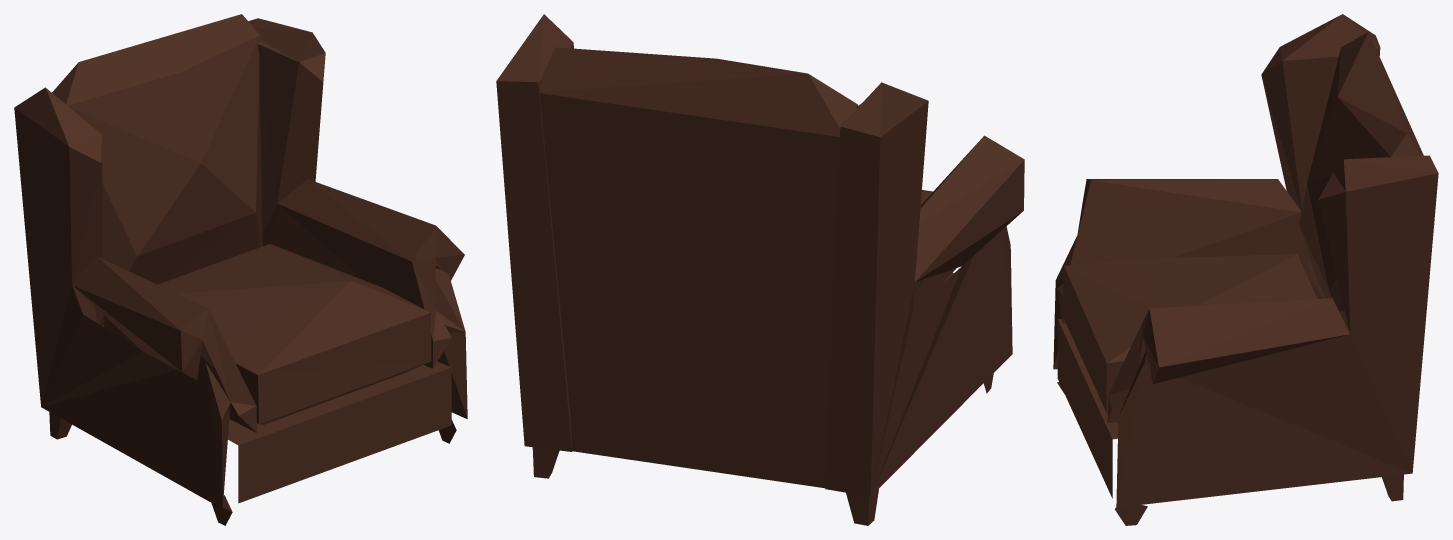
The model's file is armchair.lod2.glb.
3 renders of one model, left to right at view 1: azimuth 30°, elevation 25°; view 2: azimuth 150°, elevation 25°; view 3: azimuth 270°, elevation 25°, orthographic. The views are drawn at different scales.
Visible parts, largest first — view 1: ARMCHAIR_TEXSET_A_0; view 2: ARMCHAIR_TEXSET_A_0; view 3: ARMCHAIR_TEXSET_A_0.
Boxes of the visible parts, x1,y1,x2,y2 form: ARMCHAIR_TEXSET_A_0: (14, 14, 467, 525); ARMCHAIR_TEXSET_A_0: (496, 14, 1024, 525); ARMCHAIR_TEXSET_A_0: (1053, 14, 1438, 525).
Size of the model in its own units: 0.9879 by 0.9763 by 0.9281.
